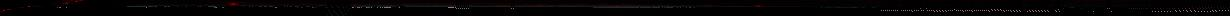Blue cone: (62, 2, 70, 4), (26, 6, 31, 7), (6, 9, 11, 10)
Yellow cone: (227, 2, 240, 6), (754, 5, 762, 7)
